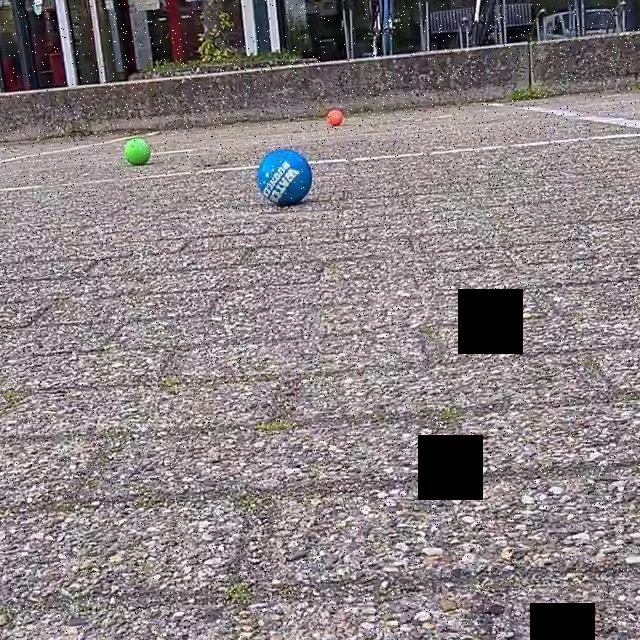ball: (122, 134, 154, 166), (324, 107, 346, 127)
